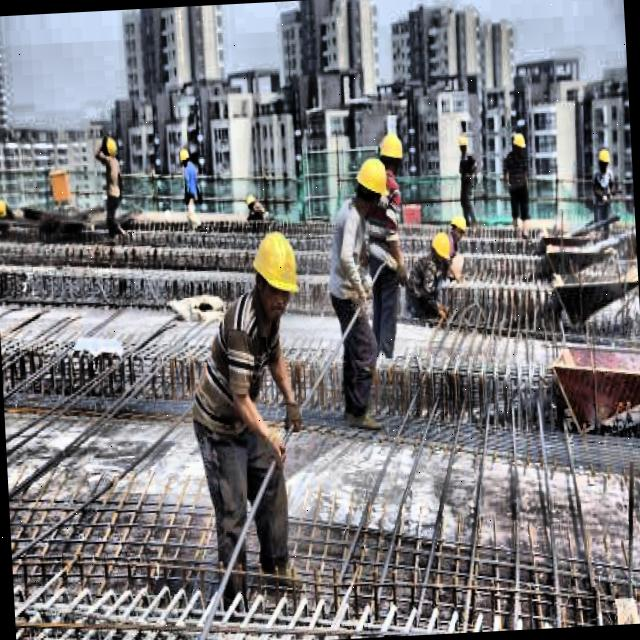helmet: (246, 222, 304, 331), (354, 152, 388, 212), (377, 132, 405, 180), (428, 226, 453, 266), (101, 130, 119, 168), (511, 128, 531, 162), (449, 210, 469, 242), (596, 144, 612, 178), (456, 132, 471, 162), (179, 147, 192, 176)
